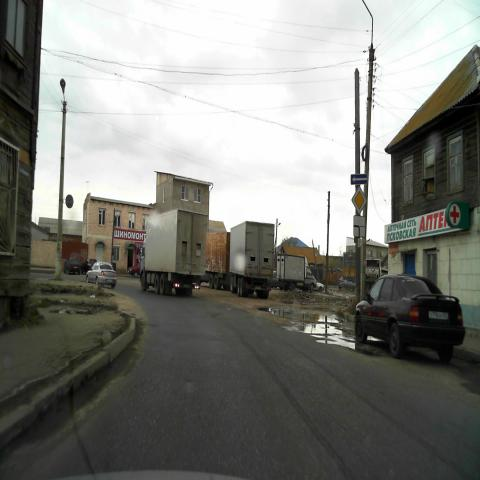5_7_2: (350, 173, 368, 184)
